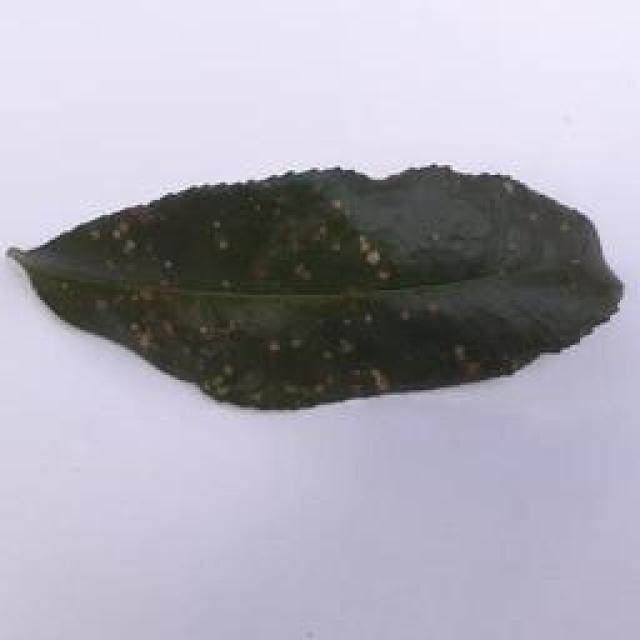Algal Leaf Spot: (0, 150, 640, 417)
